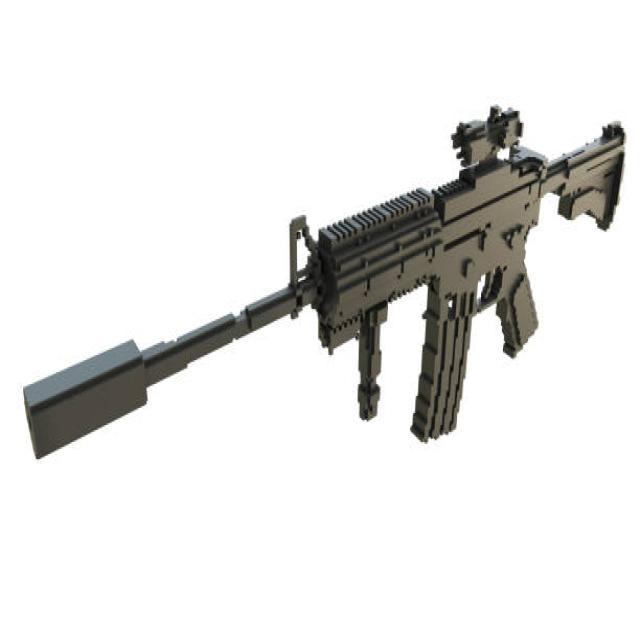rifle: (21, 97, 628, 485)
